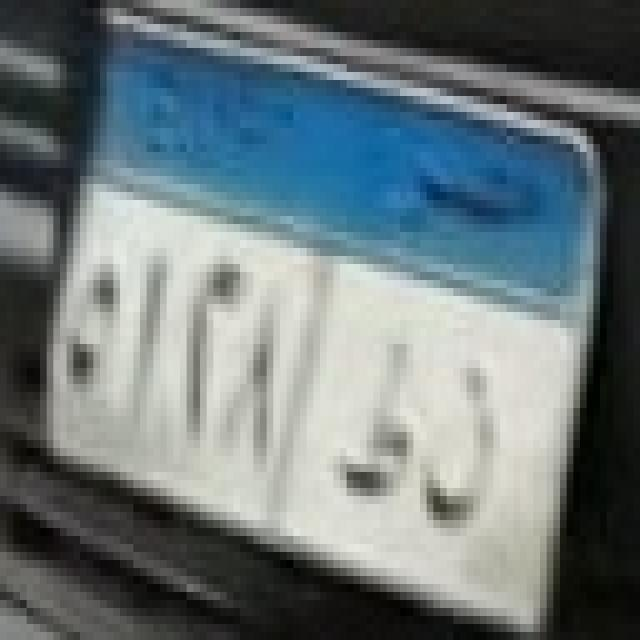1: (237, 280, 294, 472), (130, 244, 176, 426)
2: (178, 252, 249, 449)
5: (76, 244, 130, 398)
Laam: (421, 348, 506, 538)
Taa: (336, 318, 422, 514)
